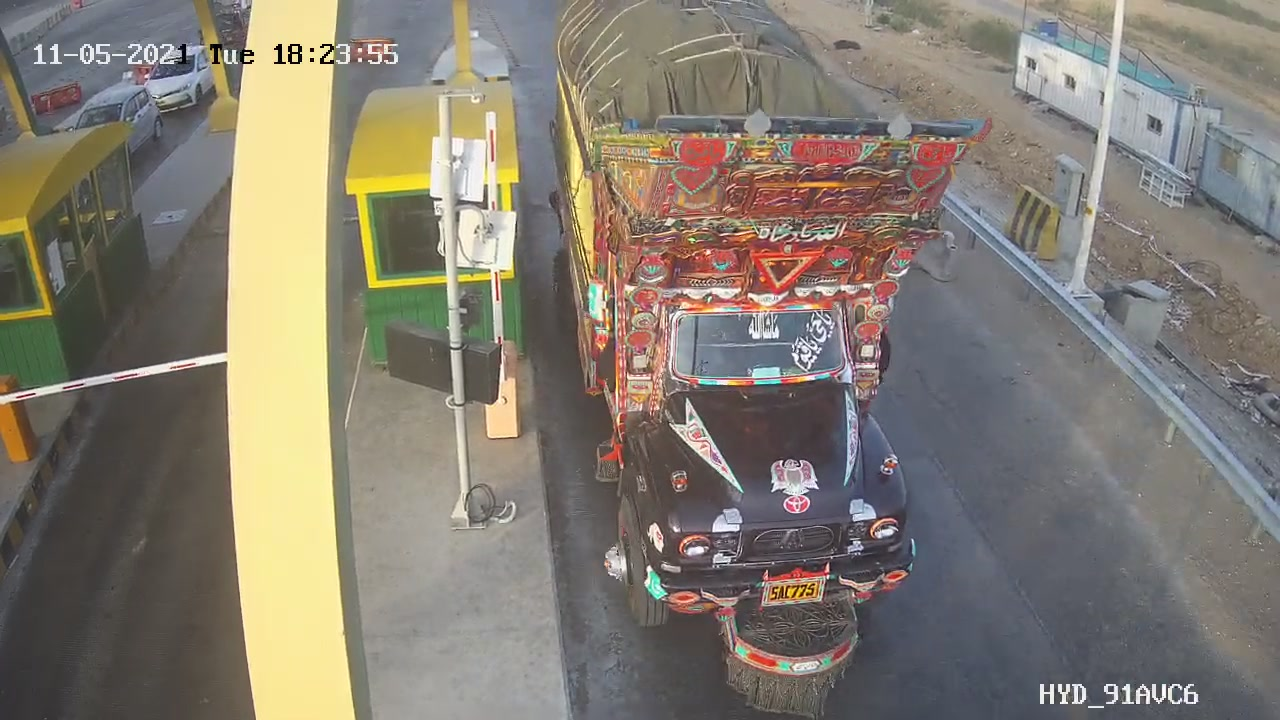F5: (541, 1, 998, 715)
